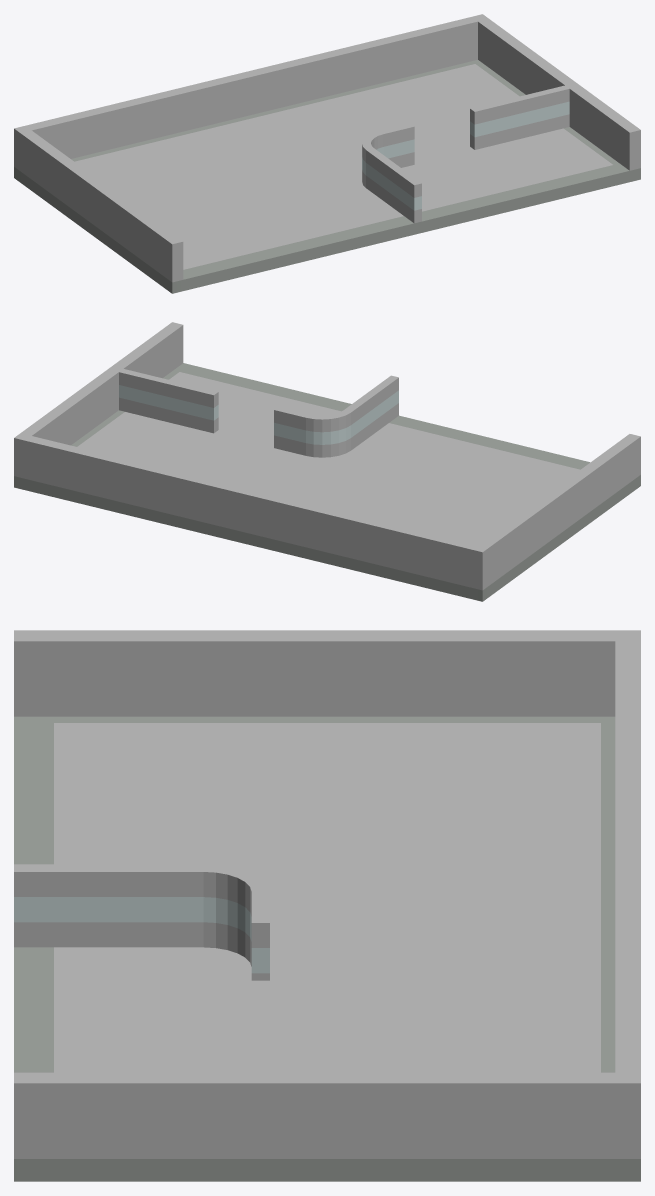
The model's file is DOWN.fbx.
The picture shows the model from 3 angles, top to bottom: view 1: azimuth 30°, elevation 25°; view 2: azimuth 150°, elevation 25°; view 3: azimuth 270°, elevation 25°; orthographic projection. The views are drawn at different scales.
Parts seen in each view (by area): view 1: Plane.010; view 2: Plane.010; view 3: Plane.010.
Boxes of the visible parts, x1,y1,x2,y2 form: Plane.010: [14, 14, 640, 293]; Plane.010: [14, 322, 640, 601]; Plane.010: [14, 630, 640, 1181].
Bounding box in the file's own units: 2954 × 298 × 1728.
1 material, 1 textured.
